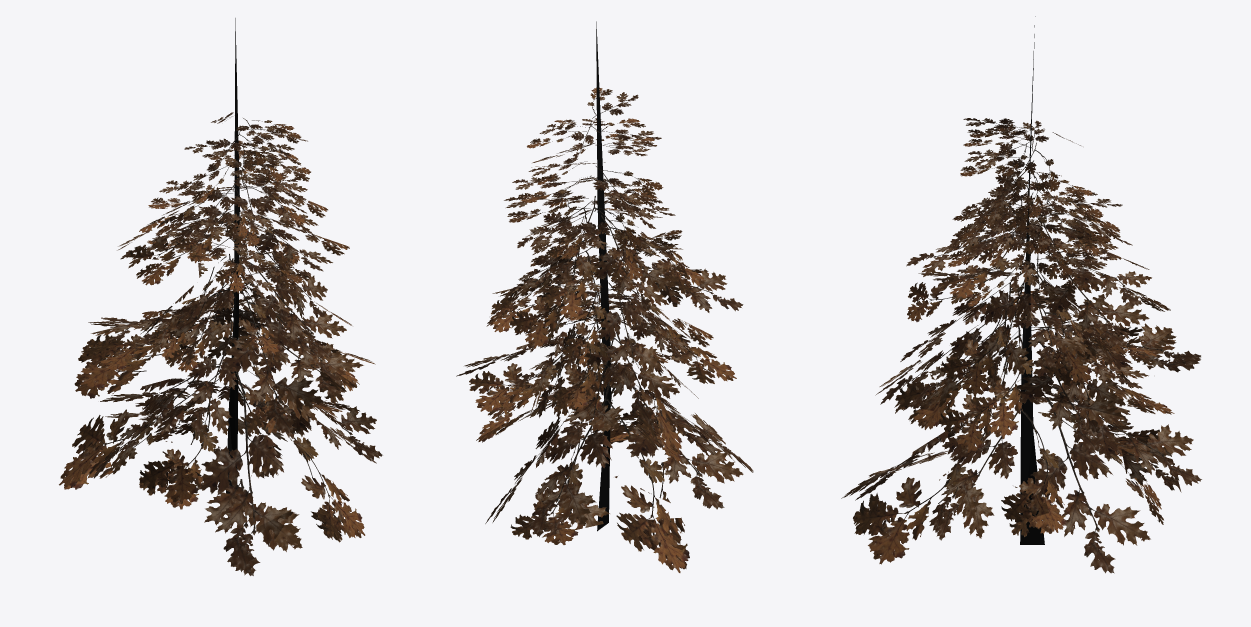
File: spruce3 lod4.FBX
3 views of the same model, side by side, from view 1: azimuth 30°, elevation 25°; view 2: azimuth 150°, elevation 25°; view 3: azimuth 270°, elevation 25° (orthographic). The views are drawn at different scales.
Parts seen in each view (by area): view 1: spruce3_LOD4; view 2: spruce3_LOD4; view 3: spruce3_LOD4.
Part boxes in pixels (x1=…): spruce3_LOD4: x1=59, y1=18, x2=382, y2=575; spruce3_LOD4: x1=456, y1=21, x2=753, y2=572; spruce3_LOD4: x1=841, y1=16, x2=1201, y2=573.
Size of the model in its own units: 59037 by 97928 by 68053.
